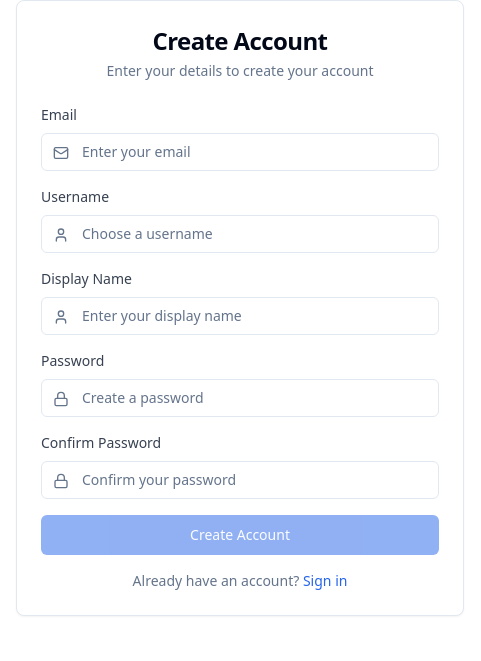
Test: SignUpForm Security › Username Input Security › should sanitize malicious username input
This screenshot has width=481, height=661.
Type "<script>alert(\"xss\")</script>user123" into the field labelled "Username" at (240,234), box [41, 215, 439, 253]
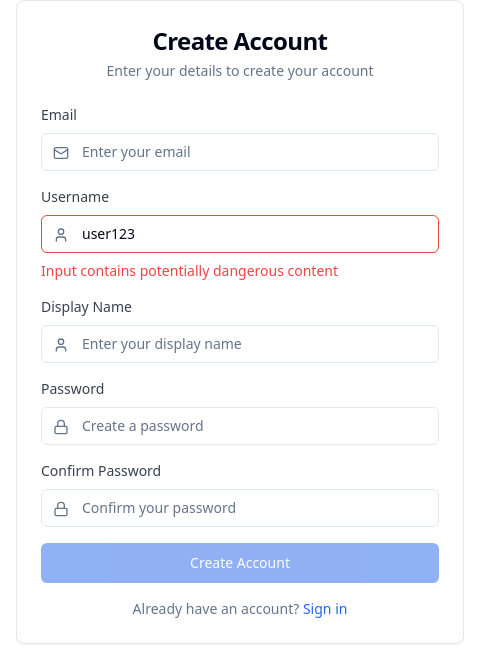
Now the field labelled "Username" holds "user123", box [41, 215, 439, 253]
